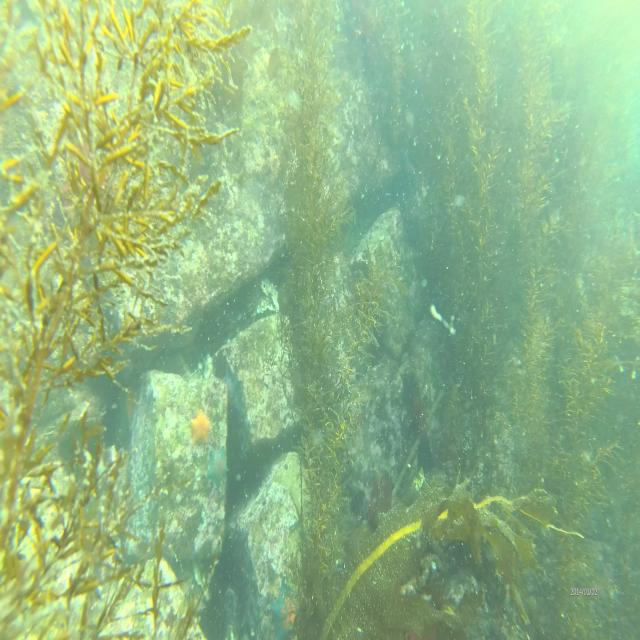echinus: (247, 276, 271, 317)
starfish: (268, 573, 303, 640), (204, 445, 230, 490), (220, 370, 241, 416), (117, 385, 139, 427), (188, 410, 211, 449)
